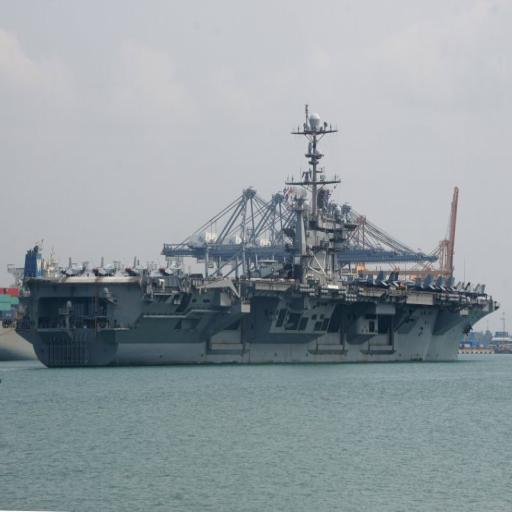Portanaves: (8, 104, 500, 368)
